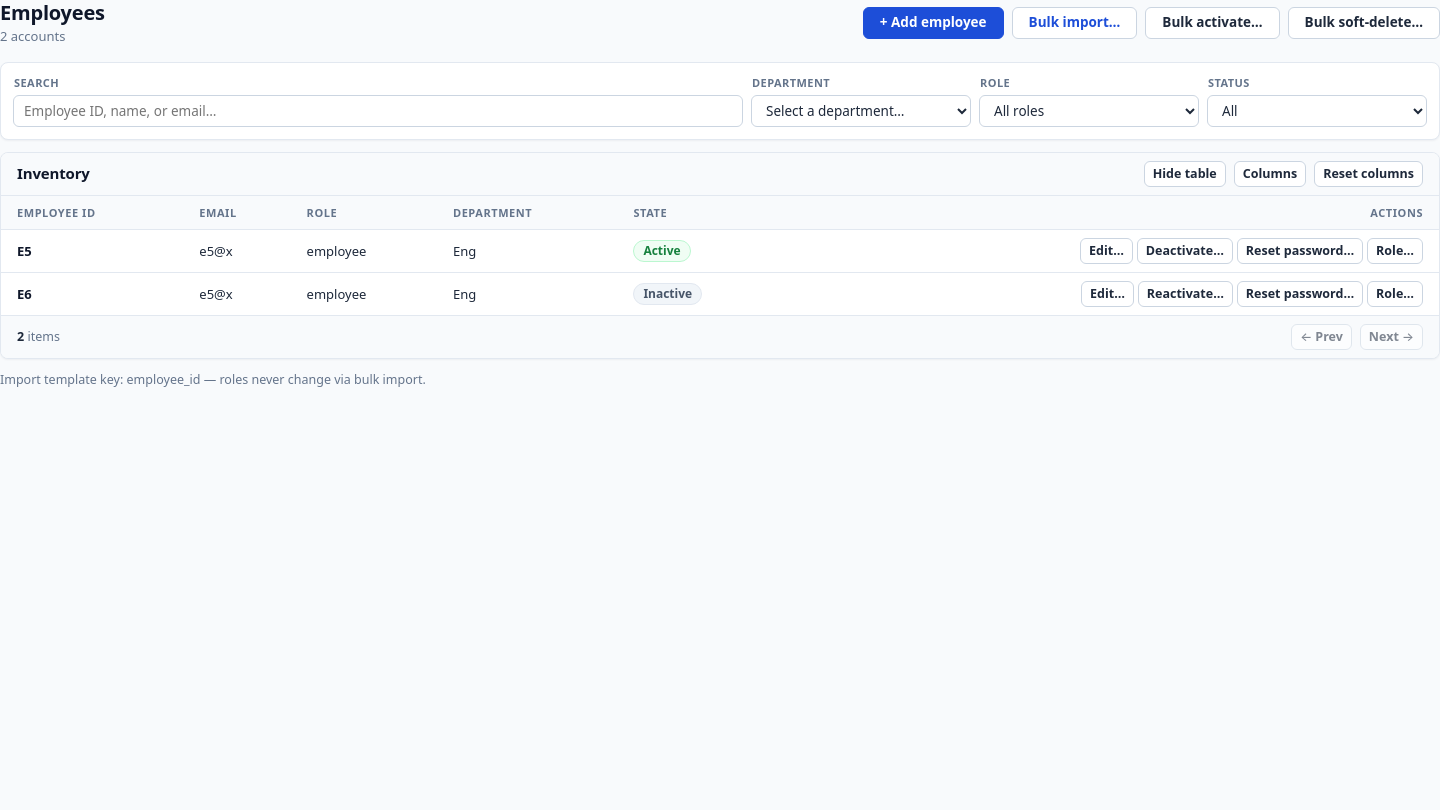
Test: Users row actions › changes a role as admin with confirmation feedback
The width and height of the screenshot is (1440, 810).
Expected: the link "E5" is shown, x1=17 y1=242 x2=32 y2=260
Click the 1st button "Role…" at (1395, 251), box x1=1367 y1=238 x2=1423 y2=264
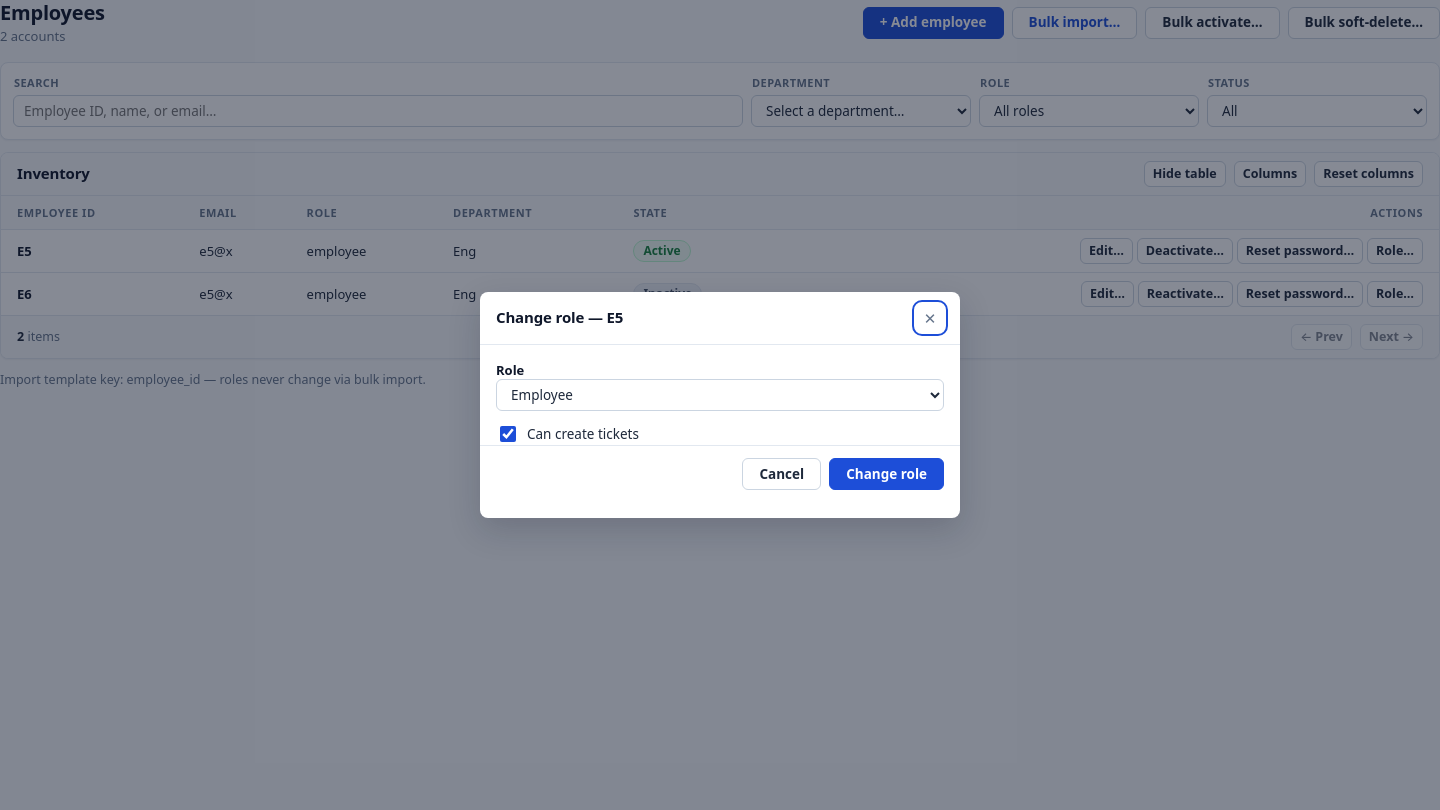
Select "IT Support" in the dropdown labelled "Role" at (720, 395), box x1=496 y1=379 x2=944 y2=411
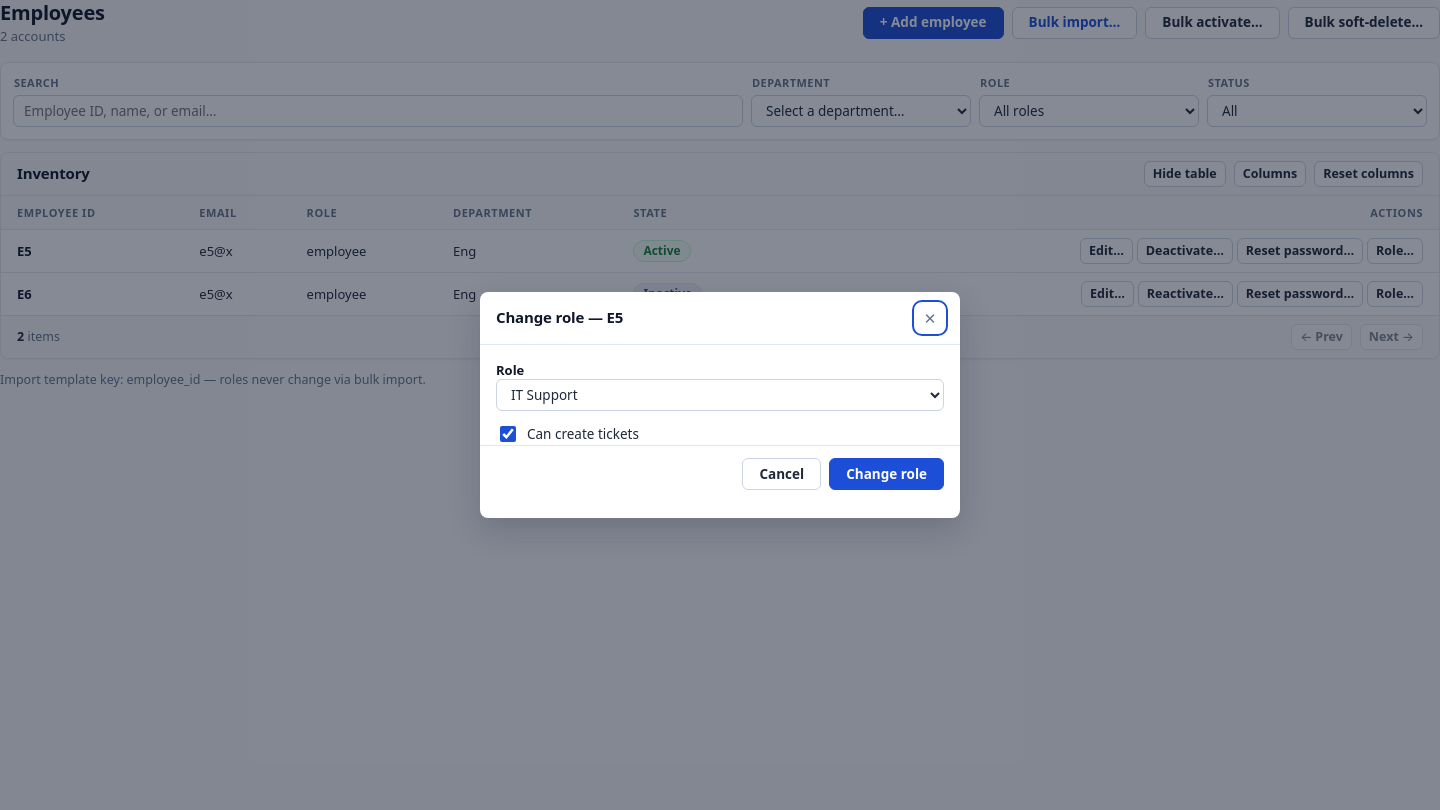
Click the button "Change role" at (887, 474), box x1=829 y1=458 x2=944 y2=490
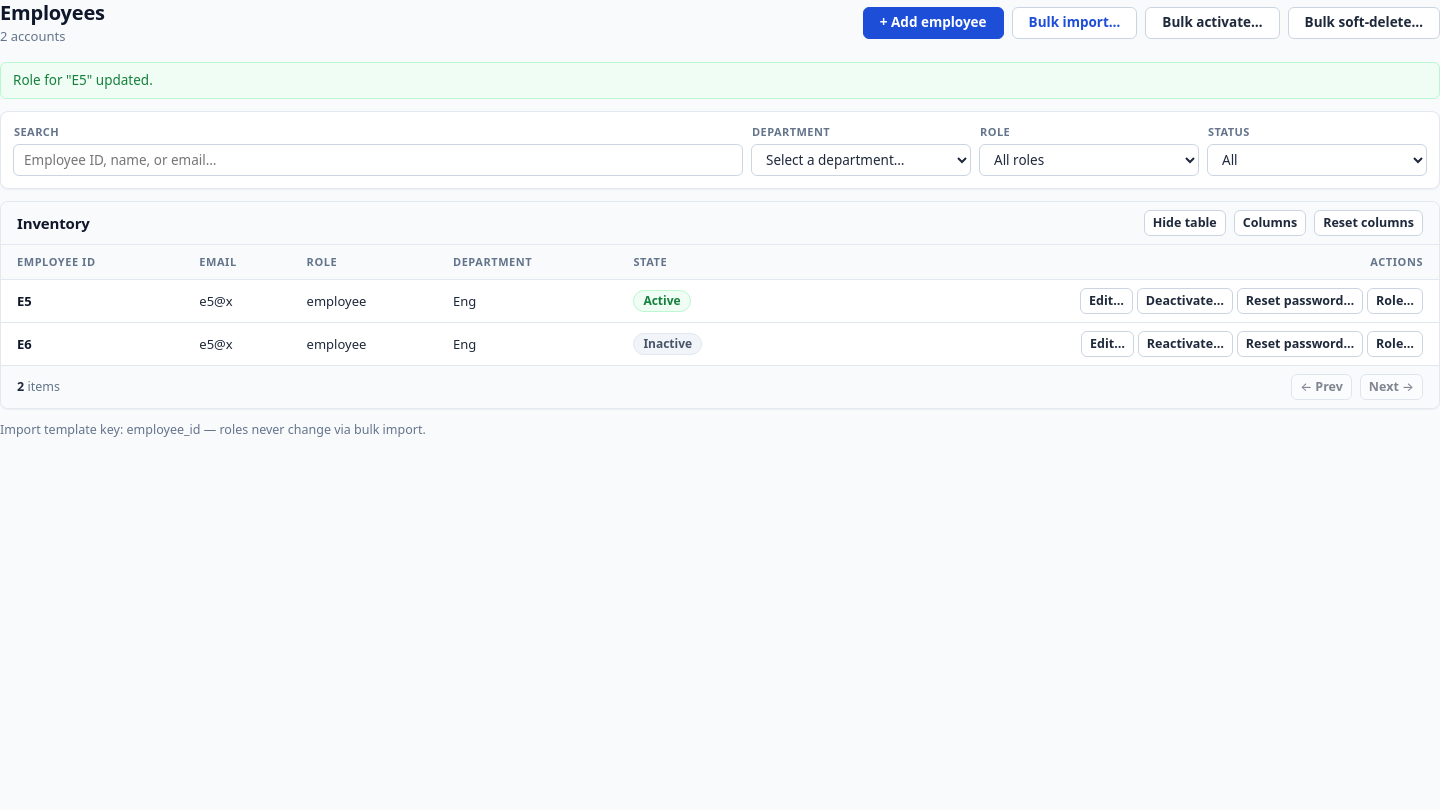
Result: the text "Role for \"E5\" updated." is shown at x1=0 y1=62 x2=1439 y2=99
